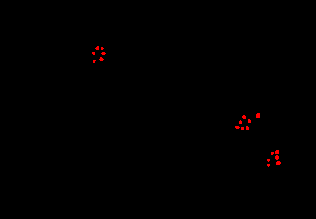Target: (99, 57, 104, 61), (256, 113, 260, 118), (275, 155, 279, 160), (276, 161, 281, 165), (95, 46, 99, 50), (242, 115, 246, 119), (275, 150, 279, 154), (101, 52, 106, 55), (235, 126, 240, 129), (248, 119, 251, 123), (239, 120, 242, 124), (246, 126, 249, 130), (101, 47, 104, 50), (92, 52, 95, 55), (93, 60, 96, 63), (241, 127, 244, 130), (271, 152, 274, 155), (267, 159, 270, 162), (267, 164, 270, 167)
